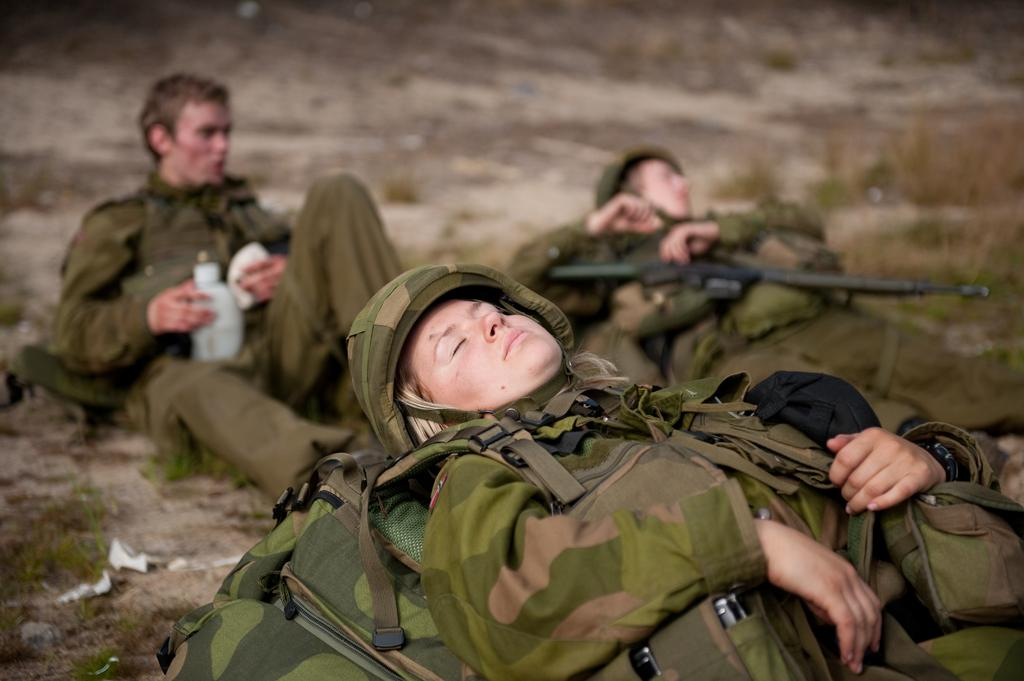Rifle: (540, 249, 991, 312)
